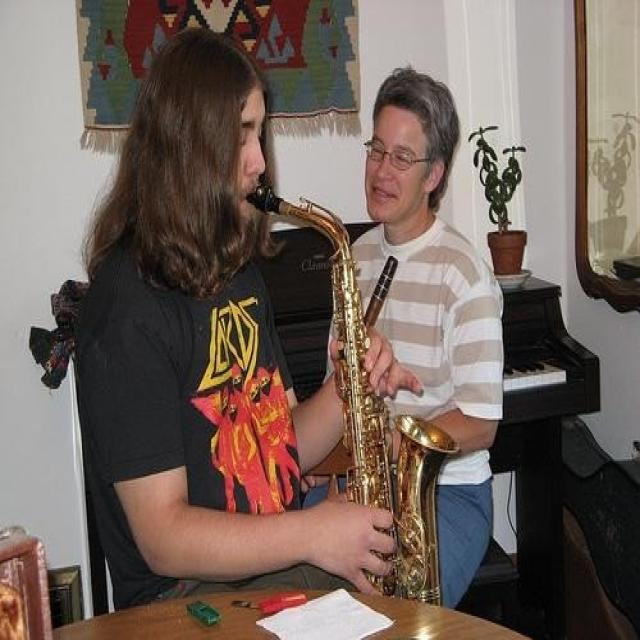saxophone: (238, 181, 444, 611)
